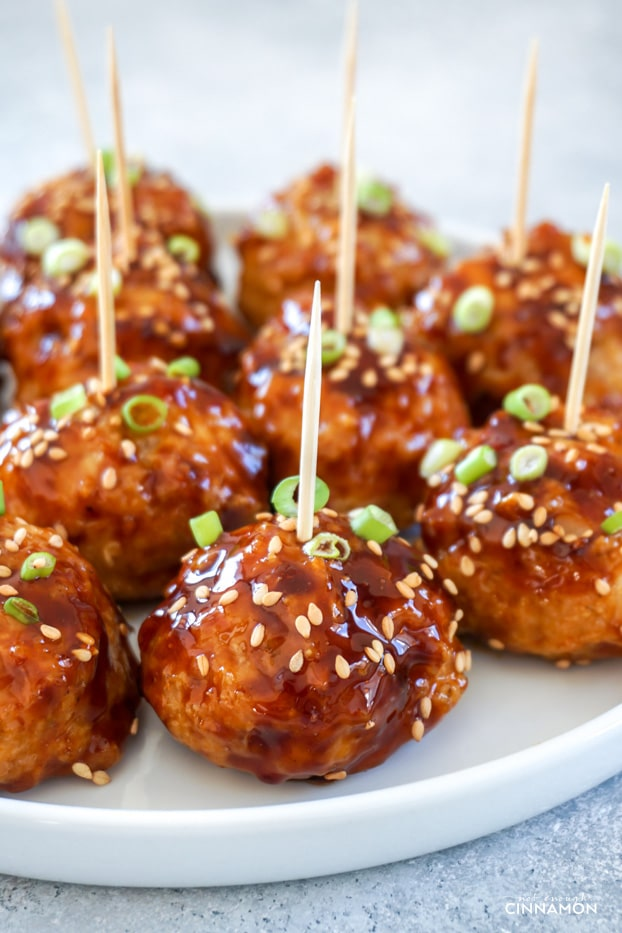meatballs: (153, 516, 466, 744), (12, 384, 242, 577), (426, 446, 622, 639), (261, 317, 458, 495), (1, 524, 141, 760), (453, 235, 622, 401)
